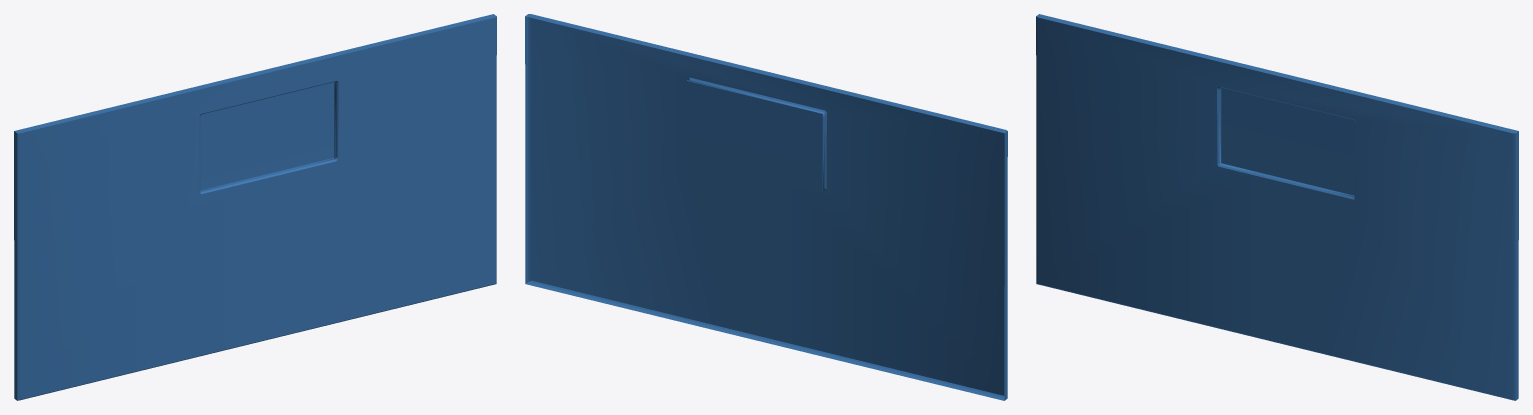
Rendered from bigsides_2.fbx.
3 views of the same model, side by side, from view 1: azimuth 30°, elevation 25°; view 2: azimuth 150°, elevation 25°; view 3: azimuth 330°, elevation 25° (orthographic).
Parts seen in each view (by area): view 1: Bigsides_box; view 2: Bigsides_box; view 3: Bigsides_box.
Part boxes in pixels (x1,y1,x2,y2): Bigsides_box: (14, 14, 496, 400); Bigsides_box: (525, 14, 1007, 400); Bigsides_box: (1036, 14, 1518, 400).
Size of the model in its own units: 2113 by 1127 by 30.22.
